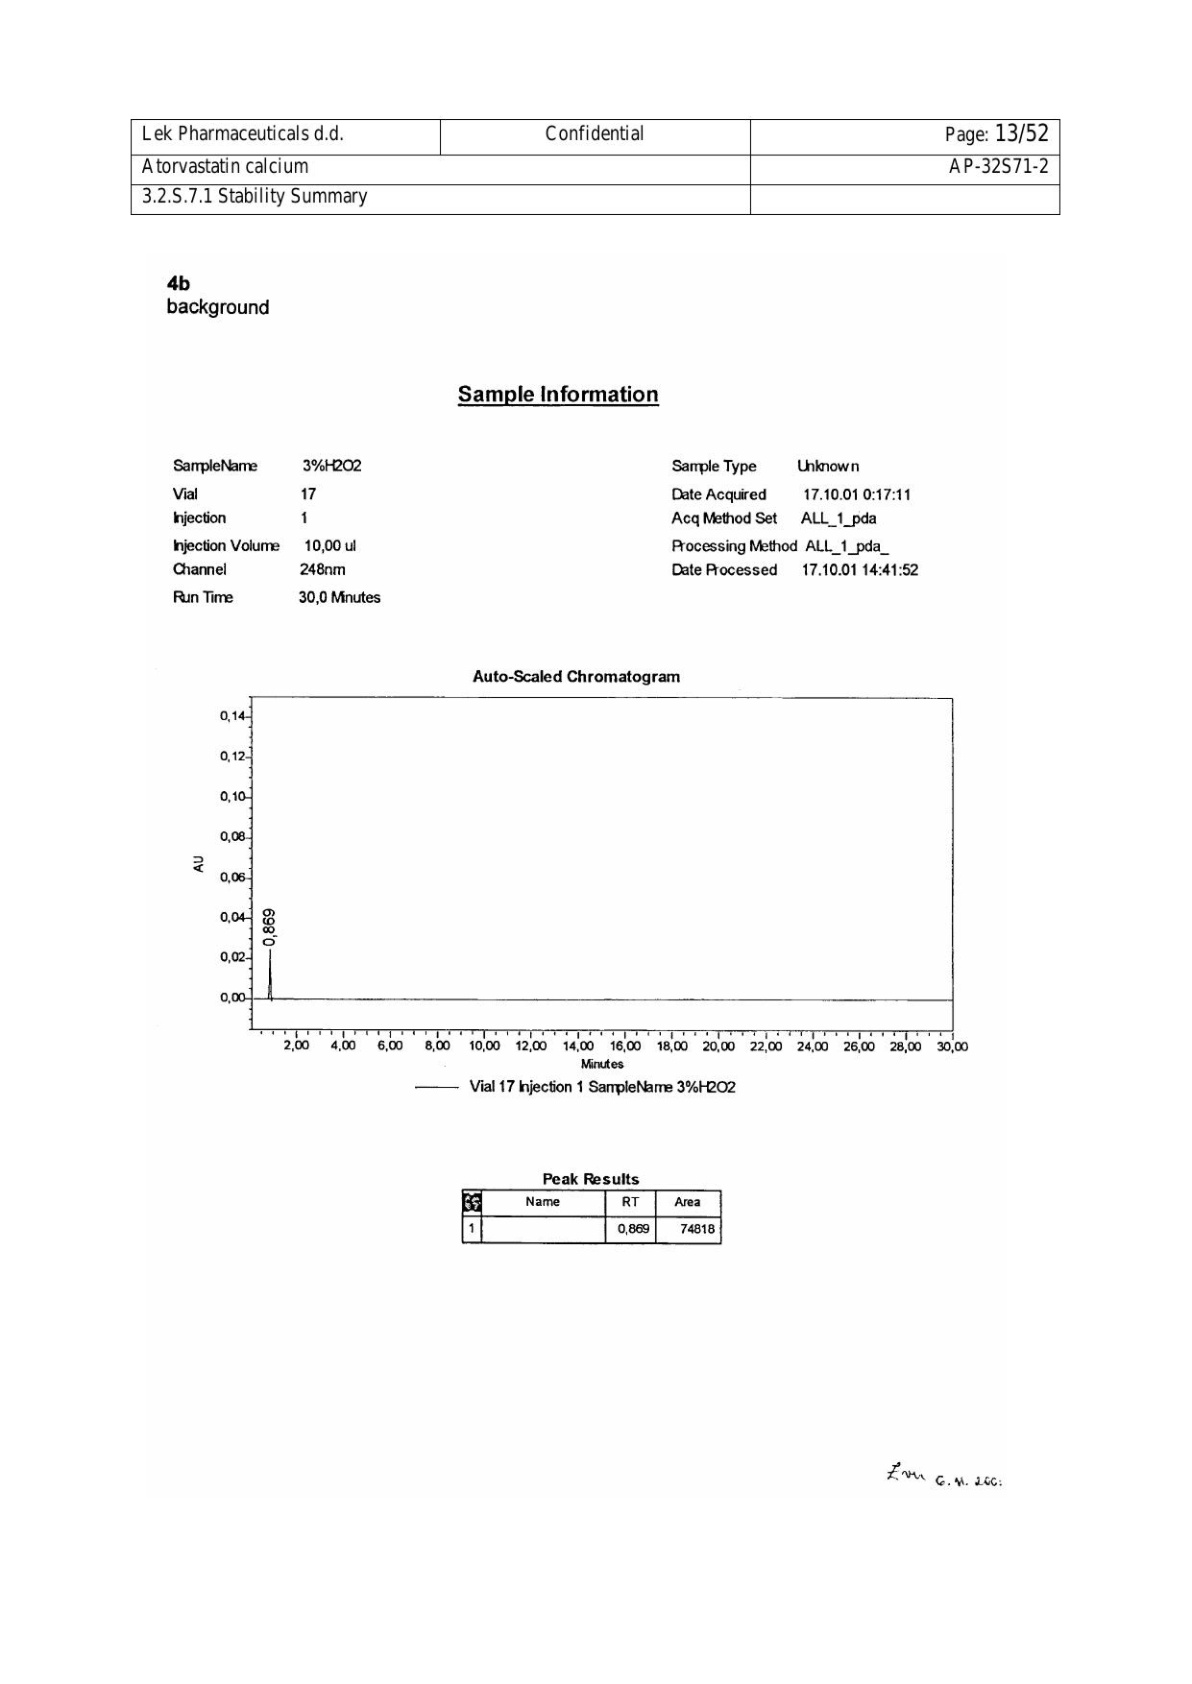full_lined: (461, 1188, 722, 1246)
merged_cells: (130, 117, 1060, 217)
nolines: (168, 451, 926, 610)
